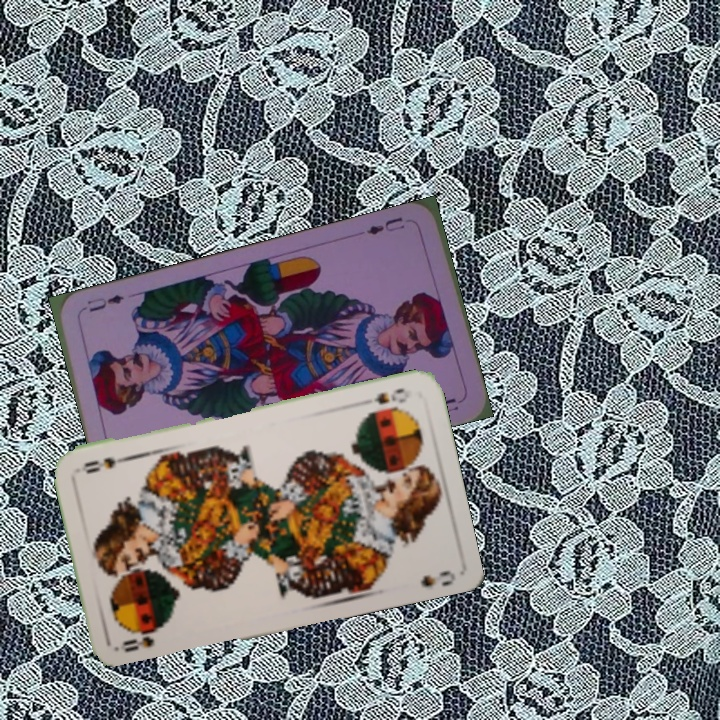EU: (362, 212, 407, 238)
SO: (118, 622, 167, 655), (369, 384, 413, 407)
